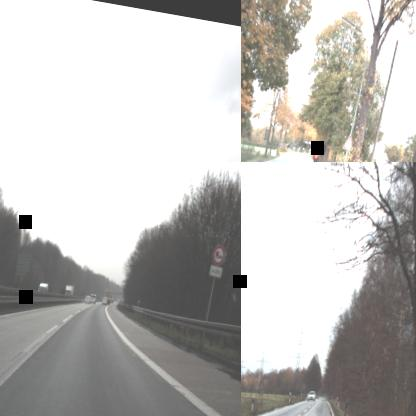bend: (342, 132, 354, 151)
no overtaking: (210, 243, 227, 267)
